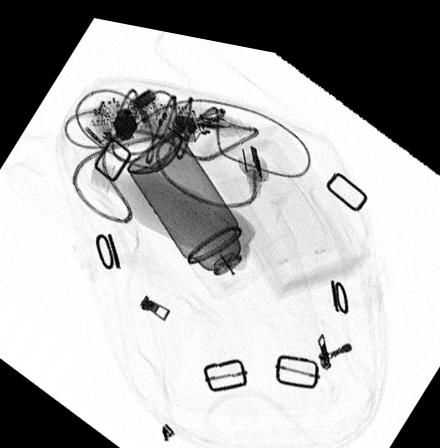Sprayer: (125, 121, 265, 291)
